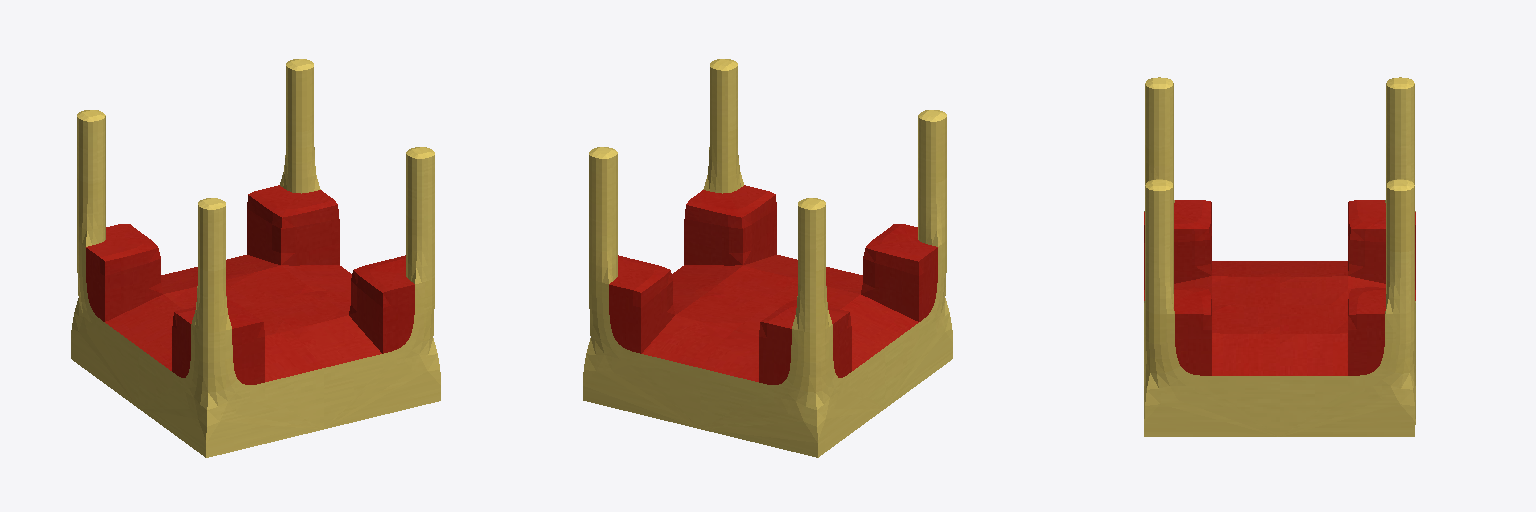
3 views of the same model, side by side, from view 1: azimuth 30°, elevation 25°; view 2: azimuth 150°, elevation 25°; view 3: azimuth 270°, elevation 25° (orthographic).
Visible parts, largest first — view 1: Frame, Cushion; view 2: Frame, Cushion; view 3: Frame, Cushion.
Boxes of the visible parts, x1=… form: Frame: x1=71, y1=59, x2=440, y2=457; Cushion: x1=86, y1=185, x2=414, y2=384; Frame: x1=583, y1=59, x2=952, y2=457; Cushion: x1=609, y1=185, x2=937, y2=384; Frame: x1=1144, y1=77, x2=1415, y2=436; Cushion: x1=1144, y1=200, x2=1415, y2=375.
Bounding box in the file's own units: 0.9007 × 0.9074 × 0.9007.
2 materials, 2 textured.